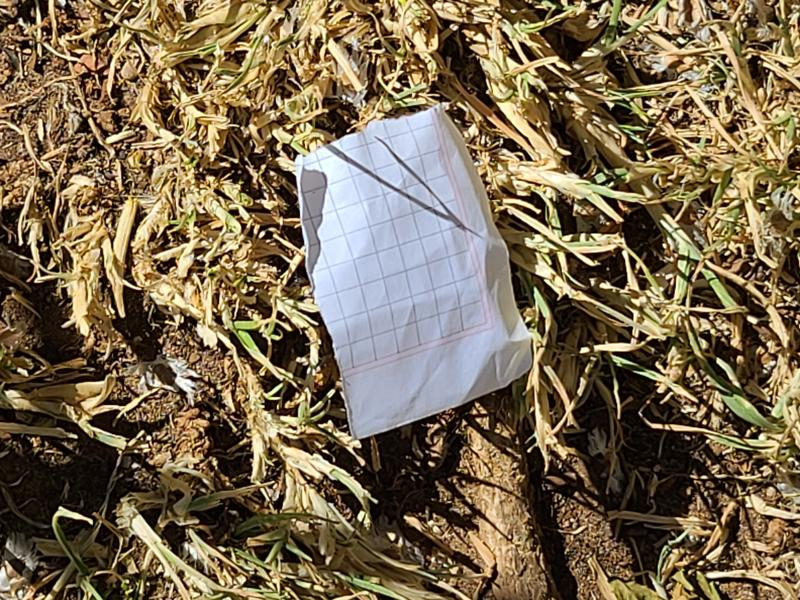papel: (294, 105, 537, 441)
